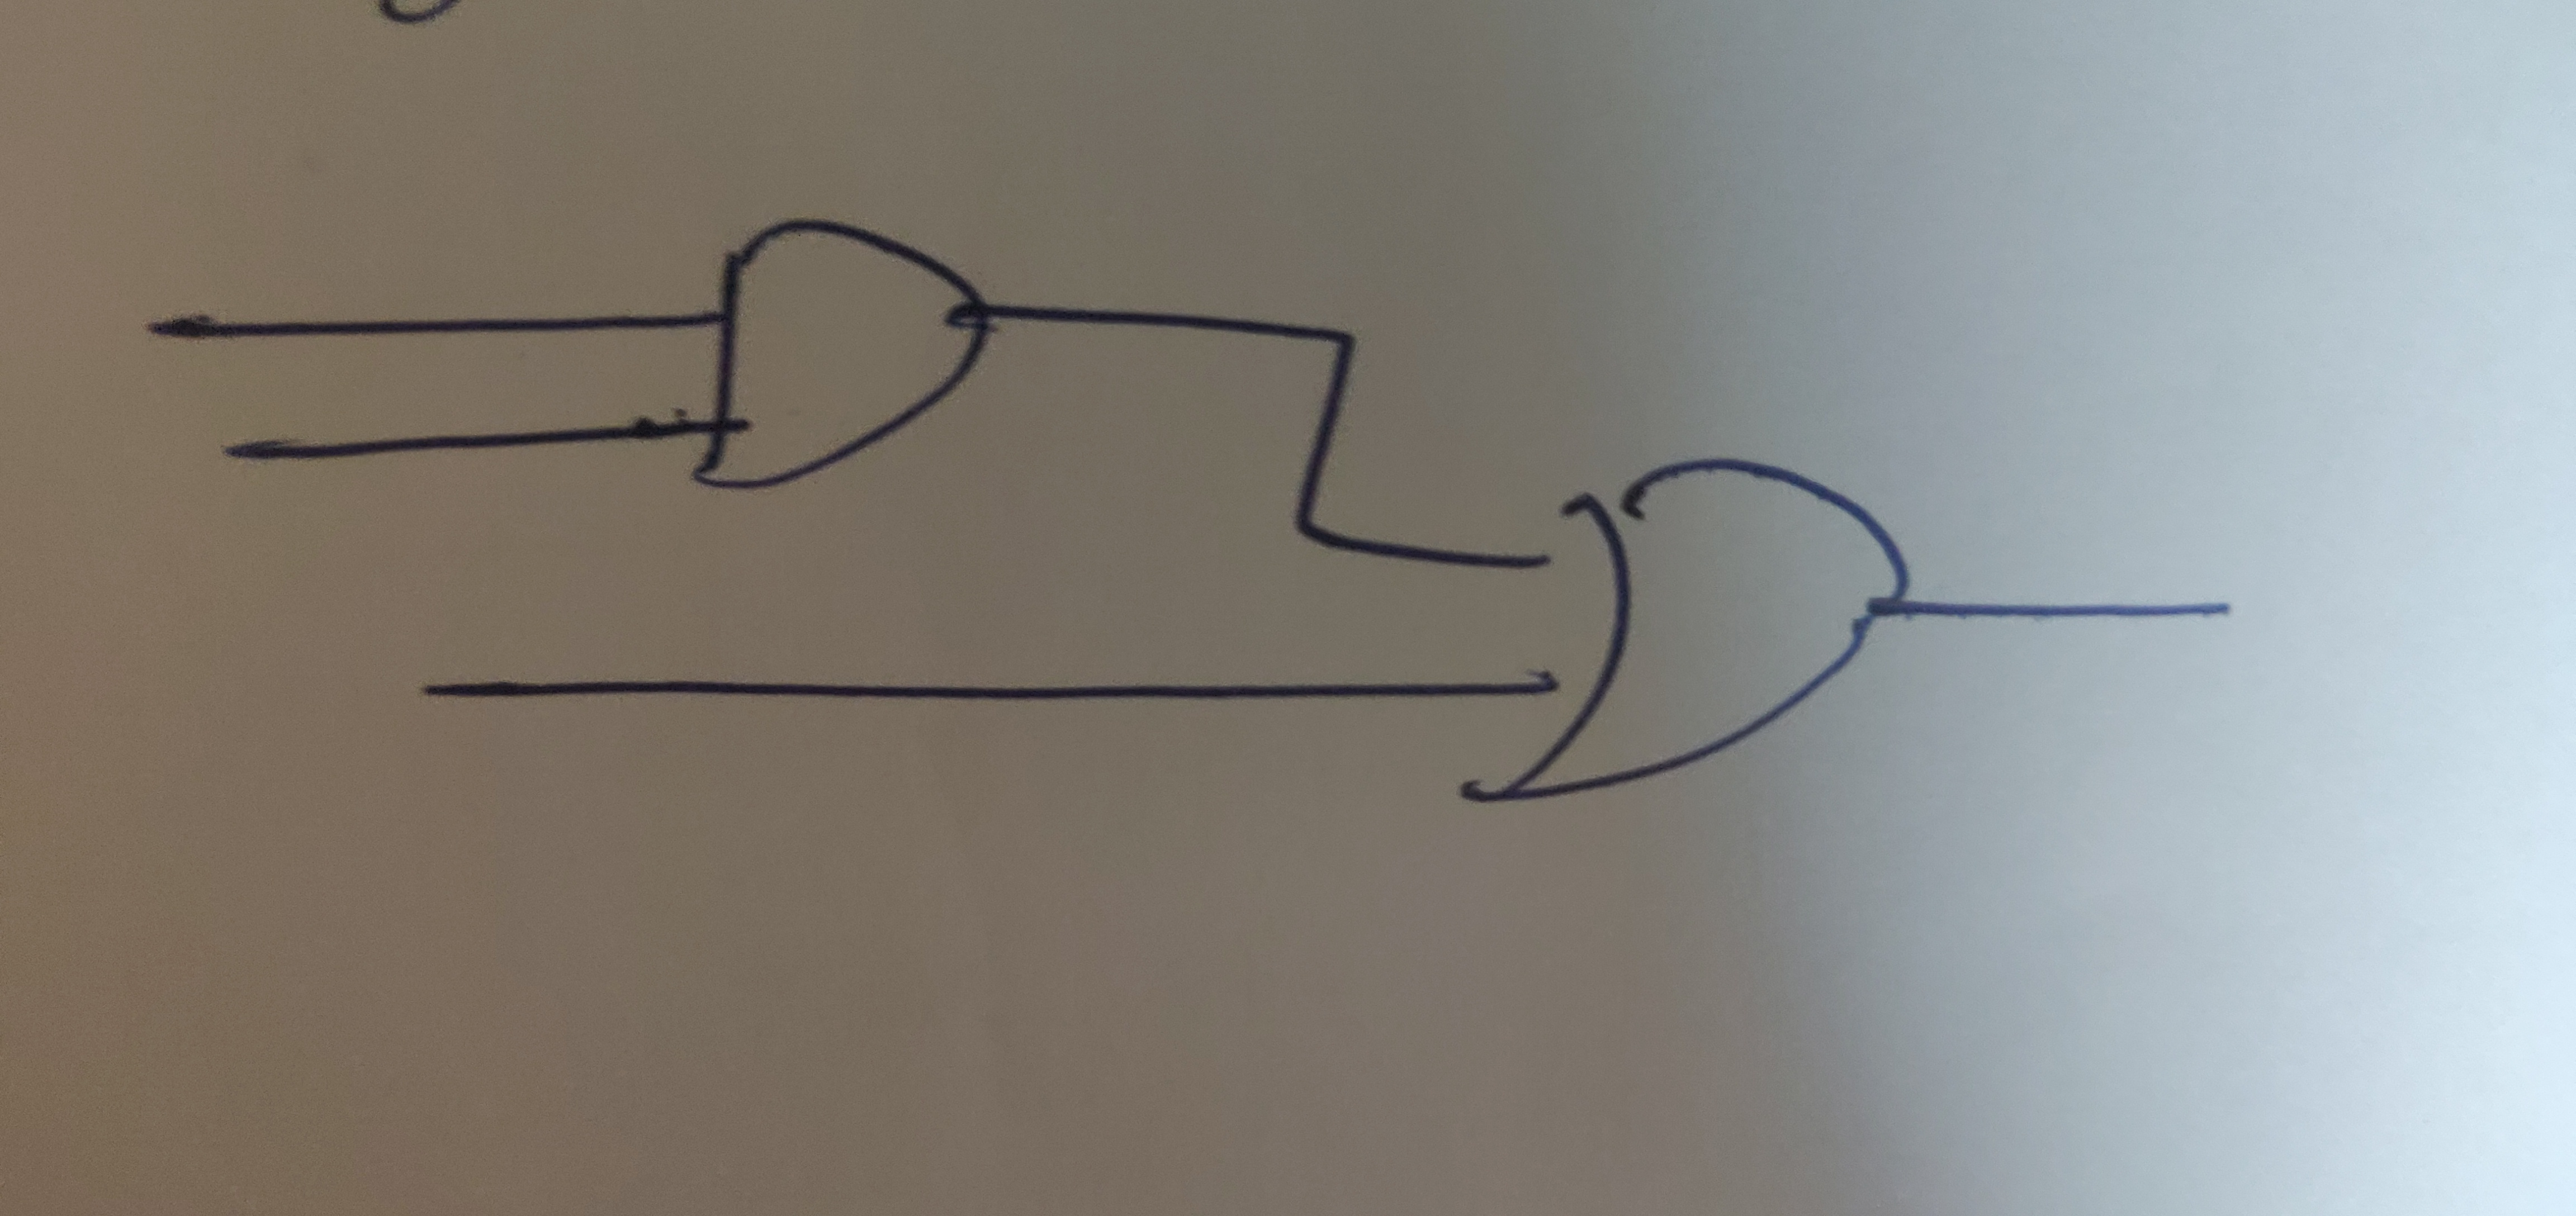and: (641, 181, 1035, 536)
or: (1436, 424, 1962, 828)
